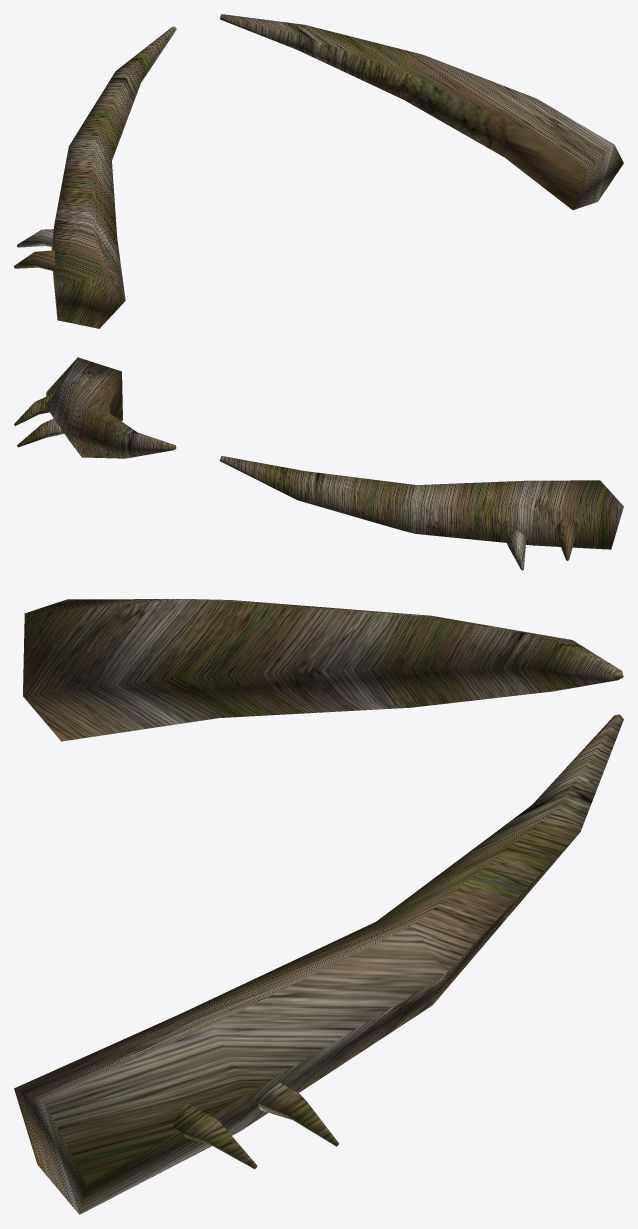
Rendered from root-arch.mobile.glb.
3 renders of one model, top to bottom at view 1: azimuth 30°, elevation 25°; view 2: azimuth 150°, elevation 25°; view 3: azimuth 270°, elevation 25°, orthographic. The views are drawn at different scales.
Parts seen in each view (by area): view 1: SA_P03_MESH_60; view 2: SA_P03_MESH_60; view 3: SA_P03_MESH_60.
Part boxes in pixels (x1=…): SA_P03_MESH_60: x1=14, y1=14, x2=623, y2=328; SA_P03_MESH_60: x1=14, y1=357, x2=623, y2=570; SA_P03_MESH_60: x1=14, y1=599, x2=623, y2=1214.
Size of the model in its own units: 3.46 by 0.831 by 1.65.
1 material, 1 textured.
